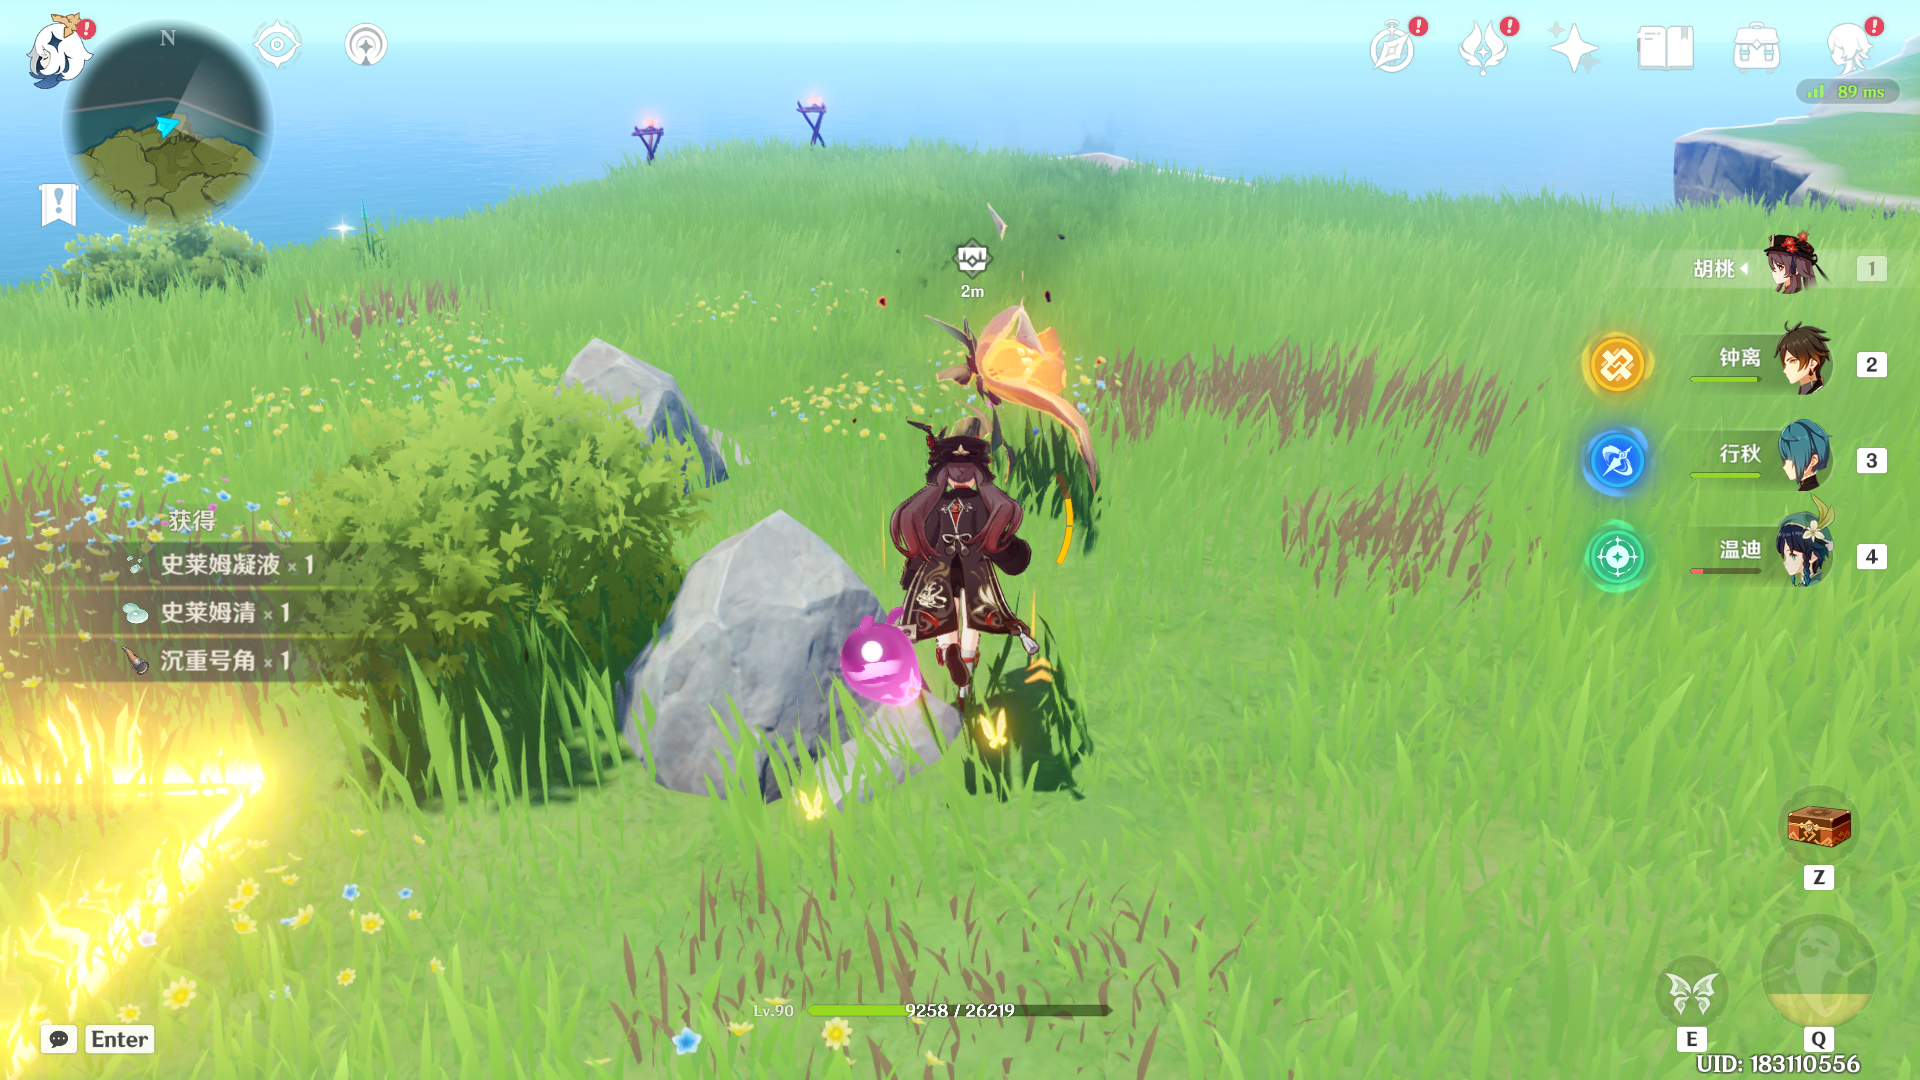character: (811, 392, 1131, 812)
